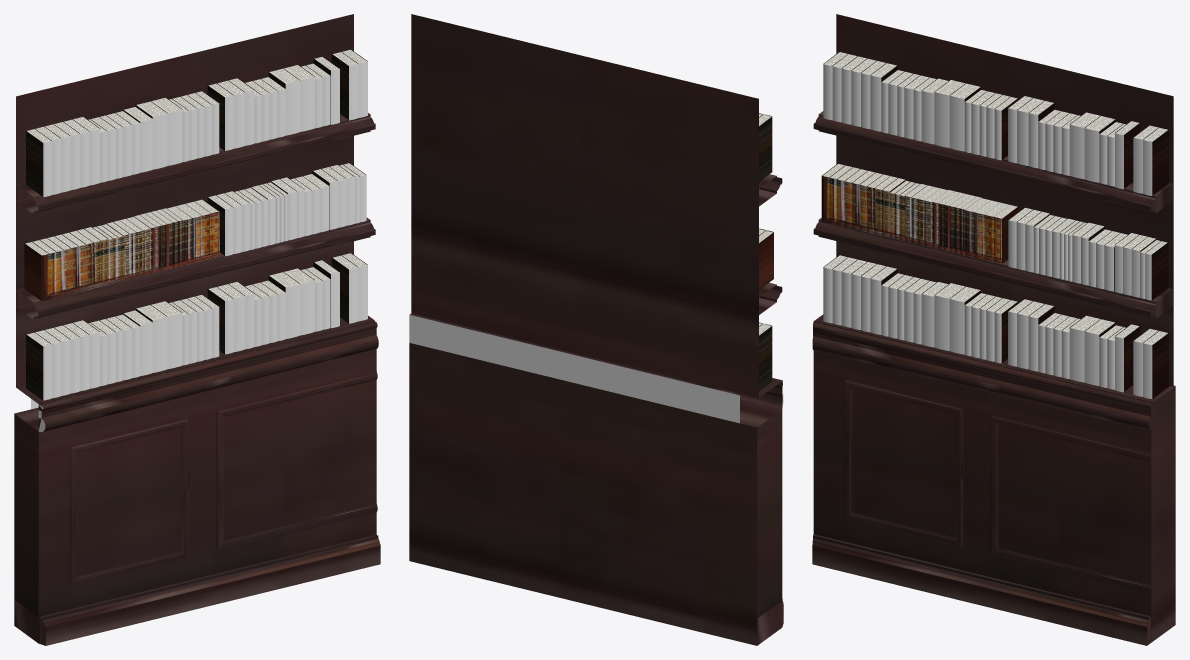
File: Biblioteca_Estante_Esquerda_GameJamFBX.fbx
3 renders of one model, left to right at view 1: azimuth 30°, elevation 25°; view 2: azimuth 150°, elevation 25°; view 3: azimuth 330°, elevation 25°, orthographic. The views are drawn at different scales.
Visible parts, largest first — view 1: Group11, Group3, Group18, Group10, Group5, Group21, Group14, Group7, Group4, Group6, Group22, Group15 (+10 smaller); view 2: Group3, Group11, Group8, Group10, corpo58, corpo5, Group18; view 3: Group11, Group3, Group18, Group10, Group5, Group21, Group14, Group7, Group4, Group6, Group22, Group15 (+10 smaller).
Part boxes in pixels (x1,y1,x2,y2): Group11: [14, 349, 376, 643]; Group3: [16, 14, 353, 387]; Group18: [24, 199, 219, 300]; Group10: [16, 316, 378, 431]; Group5: [38, 534, 380, 645]; Group21: [43, 103, 219, 196]; Group14: [43, 307, 219, 400]; Group7: [69, 371, 377, 586]; Group4: [16, 217, 375, 319]; Group6: [16, 113, 375, 213]; Group22: [225, 75, 330, 150]; Group15: [225, 279, 330, 354]; Group3: [411, 14, 758, 398]; Group11: [409, 343, 782, 645]; Group8: [409, 314, 739, 423]; Group10: [410, 313, 782, 408]; corpo58: [759, 114, 772, 181]; corpo5: [759, 324, 772, 390]; Group18: [759, 228, 773, 289]; Group11: [813, 350, 1175, 642]; Group3: [836, 14, 1173, 386]; Group18: [821, 163, 1018, 263]; Group10: [812, 314, 1174, 430]; Group5: [812, 534, 1151, 645]; Group21: [823, 64, 1001, 160]; Group14: [823, 267, 1001, 363]; Group7: [844, 378, 1151, 593]; Group4: [813, 218, 1172, 318]; Group6: [813, 111, 1172, 213]; Group22: [1008, 108, 1114, 186]; Group15: [1008, 311, 1114, 389].
Size of the model in its own units: 2001 by 3000 by 295.
